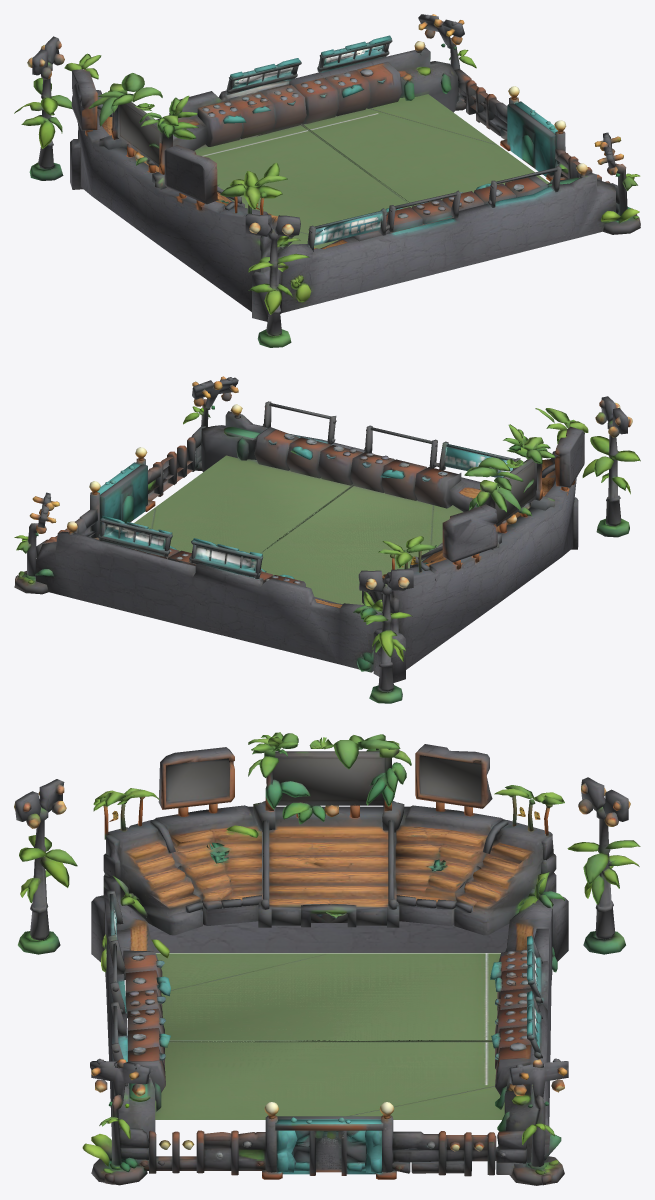
Rendered from arena-kong-stadium-kit.glb.
3 renders of one model, top to bottom at view 1: azimuth 30°, elevation 25°; view 2: azimuth 150°, elevation 25°; view 3: azimuth 270°, elevation 25°, orthographic. The views are drawn at different scales.
Parts seen in each view (by area): view 1: tripo_node_a5905ebc-6c26-429f-a736-14a569d601b6; view 2: tripo_node_a5905ebc-6c26-429f-a736-14a569d601b6; view 3: tripo_node_a5905ebc-6c26-429f-a736-14a569d601b6.
Boxes of the visible parts, box(x1,y1,x2,y2) form: tripo_node_a5905ebc-6c26-429f-a736-14a569d601b6: box(14, 14, 640, 347); tripo_node_a5905ebc-6c26-429f-a736-14a569d601b6: box(14, 376, 640, 703); tripo_node_a5905ebc-6c26-429f-a736-14a569d601b6: box(14, 732, 640, 1185).
Size of the model in its own units: 0.998 by 0.377 by 0.998.
Materials: 1 (1 with a texture image).
